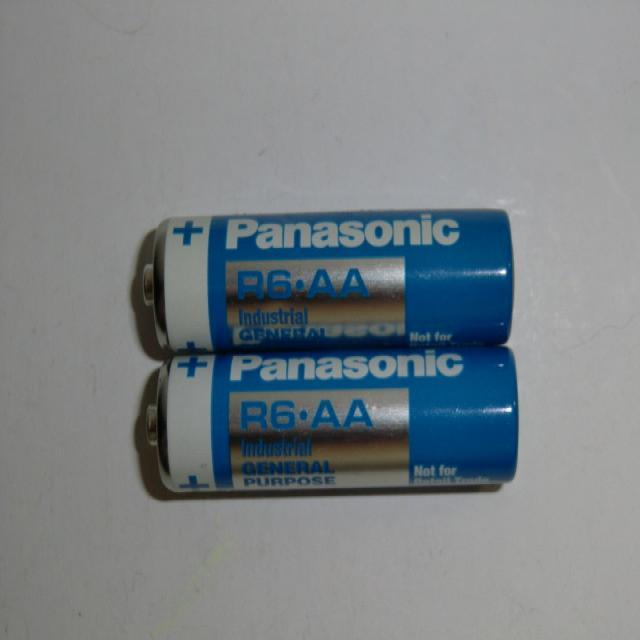hazardous waste: (132, 201, 518, 355), (137, 356, 523, 500)
